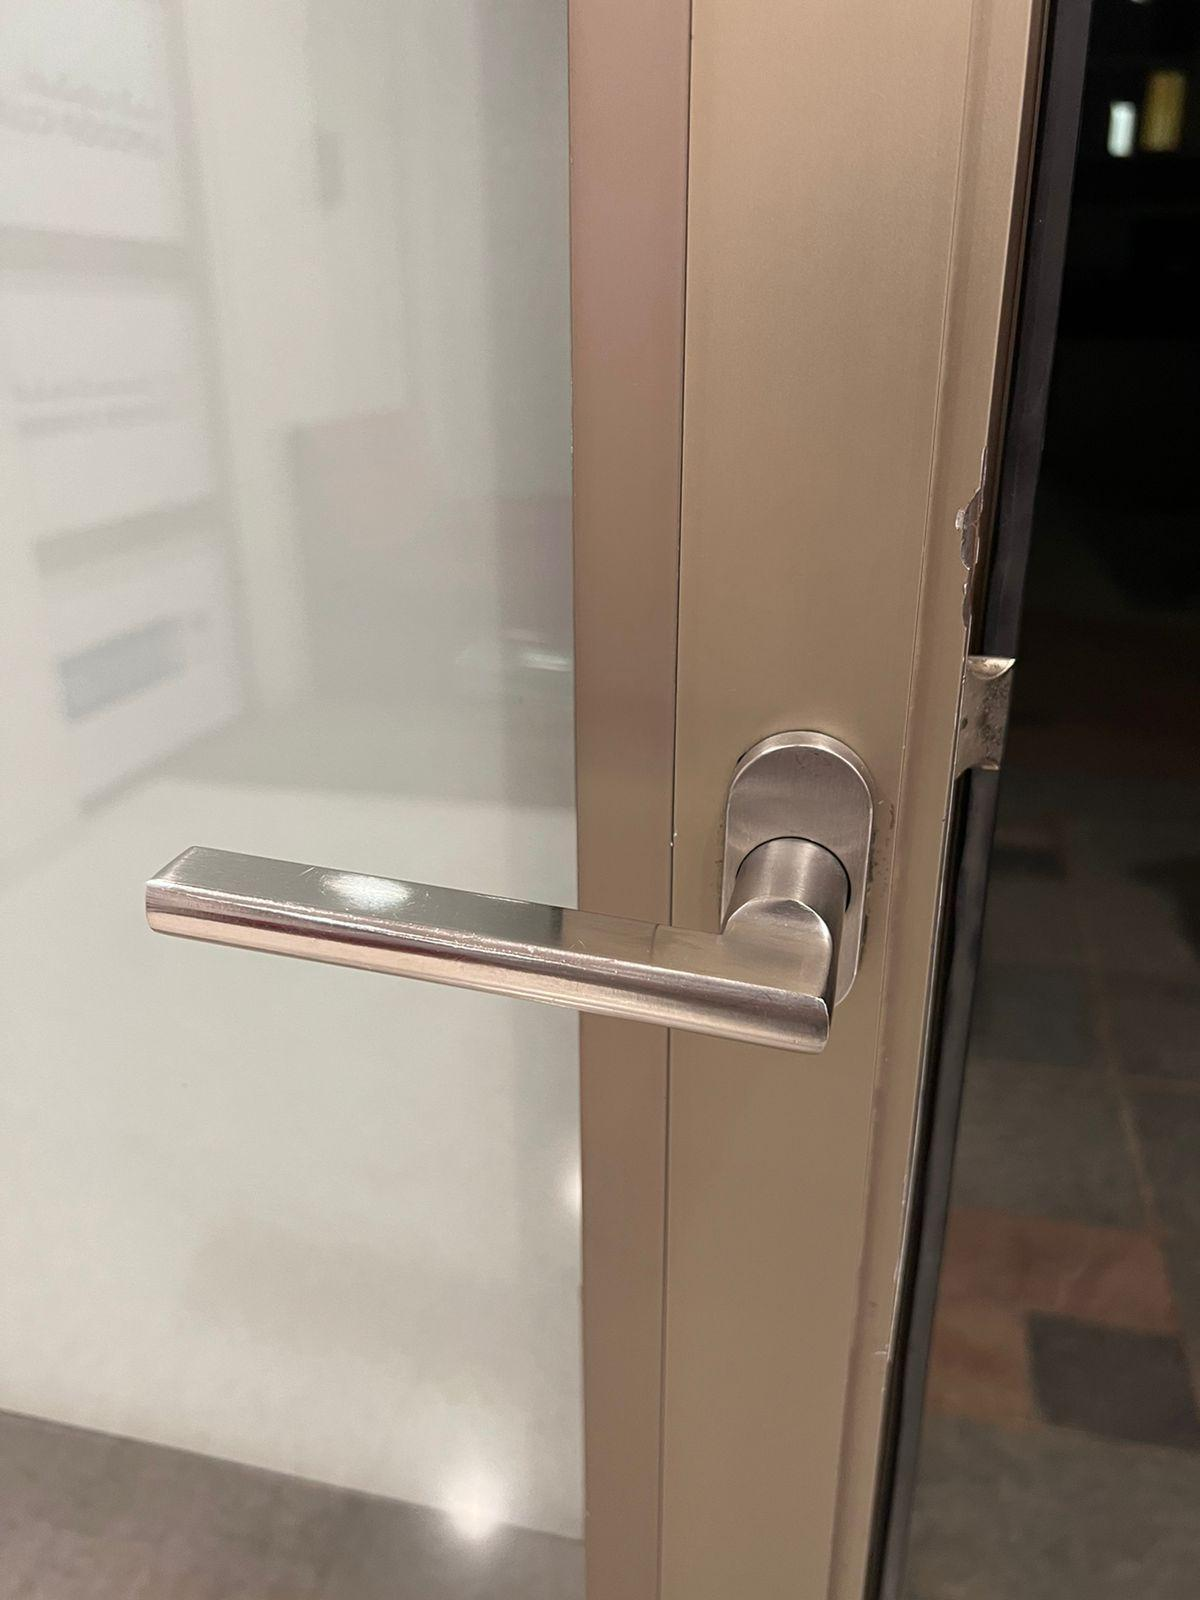handle: (145, 724, 881, 1057)
